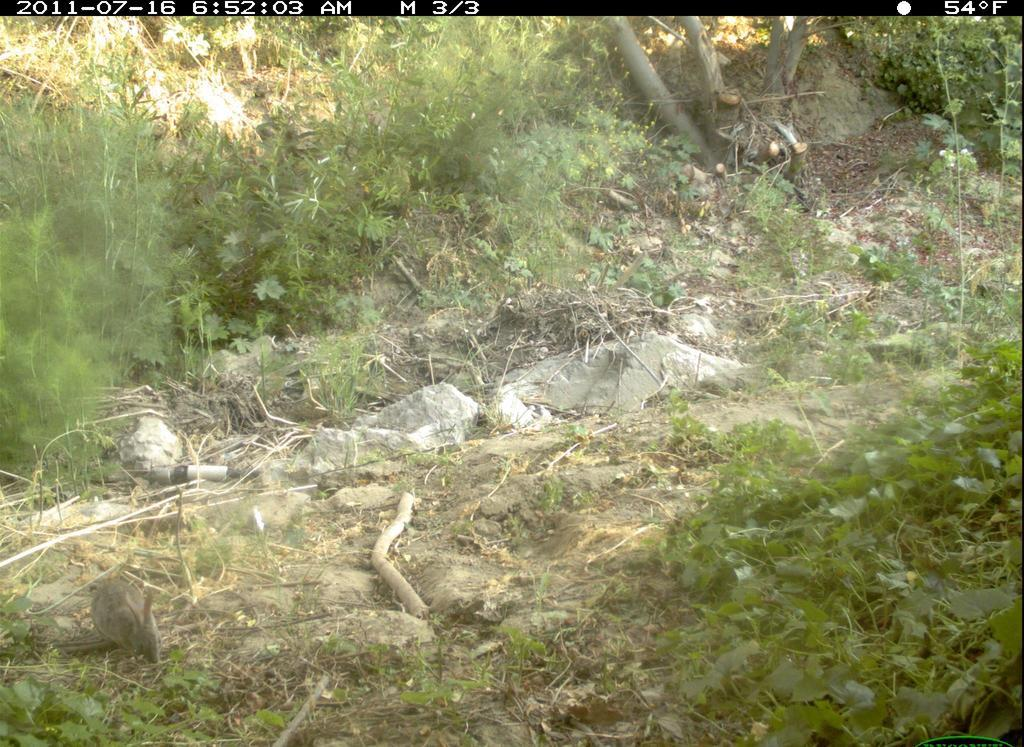rabbit: (73, 561, 189, 674)
